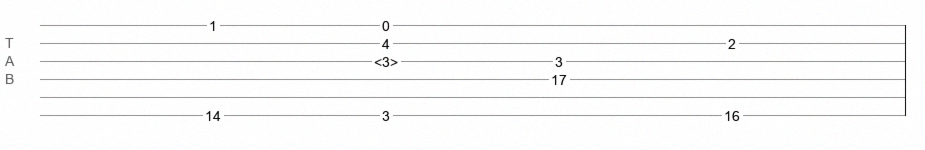0: (382, 18, 390, 28)
1: (209, 18, 217, 28)
14: (205, 108, 221, 118)
16: (724, 108, 740, 118)
17: (551, 72, 567, 82)
2: (728, 36, 736, 46)
3: (382, 108, 390, 118), (555, 54, 563, 64)
4: (382, 36, 390, 46)
harmonic: (374, 54, 398, 64)
